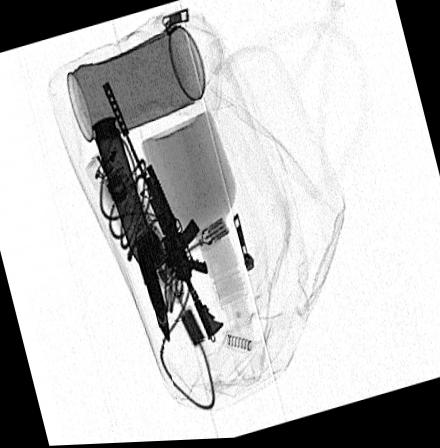Bullet: (89, 117, 167, 344)
Gun: (99, 82, 223, 343)
